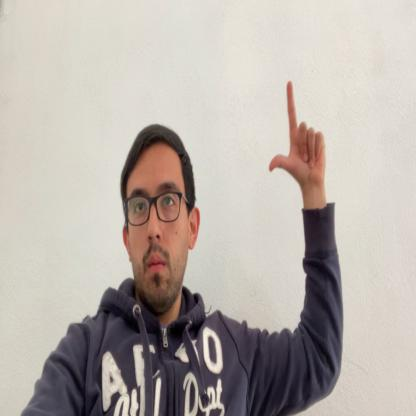L: (268, 80, 327, 183)
